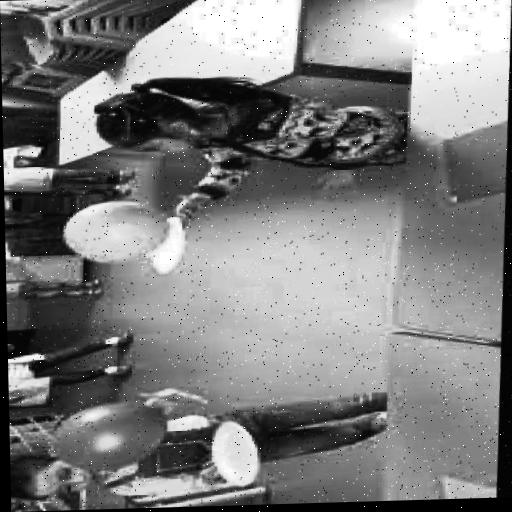balloon: (58, 398, 174, 472), (63, 197, 178, 265)
